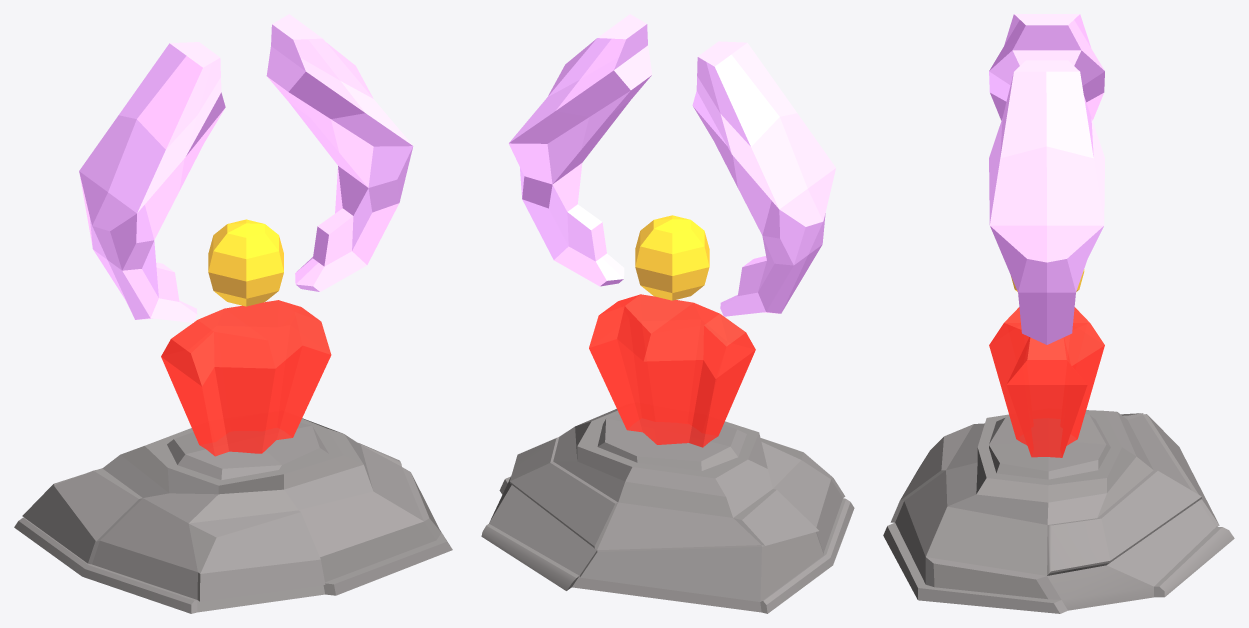
Rendered from finalCore.fbx.
3 views of the same model, side by side, from view 1: azimuth 30°, elevation 25°; view 2: azimuth 150°, elevation 25°; view 3: azimuth 270°, elevation 25° (orthographic). The views are drawn at different scales.
Visible parts, largest first — view 1: ndUpgradeBase, CrystalBottom1, CrystalBottom, CrystalSphere; view 2: ndUpgradeBase, CrystalBottom1, CrystalBottom, CrystalSphere; view 3: ndUpgradeBase, CrystalBottom1, CrystalBottom.
Part boxes in pixels (bbox=[...]): ndUpgradeBase: bbox=[14, 418, 452, 613]; CrystalBottom1: bbox=[79, 14, 413, 322]; CrystalBottom: bbox=[161, 300, 331, 456]; CrystalSphere: bbox=[208, 219, 283, 306]; ndUpgradeBase: bbox=[481, 409, 854, 613]; CrystalBottom1: bbox=[508, 14, 835, 316]; CrystalBottom: bbox=[589, 294, 755, 447]; CrystalSphere: bbox=[635, 215, 709, 300]; ndUpgradeBase: bbox=[883, 410, 1234, 613]; CrystalBottom1: bbox=[989, 14, 1104, 344]; CrystalBottom: bbox=[989, 307, 1104, 457].
Bounding box in the file's own units: 220 × 312 × 203.
